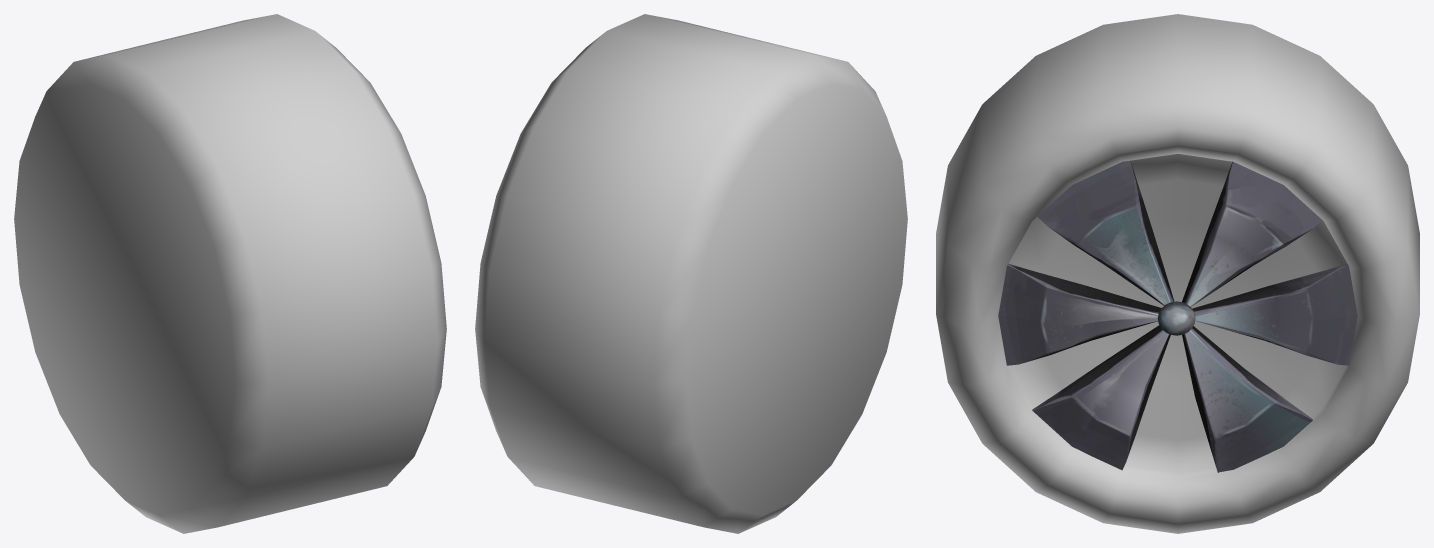
The model's file is Wheel.fbx.
3 renders of one model, left to right at view 1: azimuth 30°, elevation 25°; view 2: azimuth 150°, elevation 25°; view 3: azimuth 270°, elevation 25°, orthographic.
Visible parts, largest first — view 1: Wheel1; view 2: Wheel1; view 3: Wheel1.
Part boxes in pixels (x1,y1,x2,y2): Wheel1: [14, 14, 446, 533]; Wheel1: [475, 14, 907, 533]; Wheel1: [936, 14, 1419, 533].
Size of the model in its own units: 0.4204 by 0.844 by 0.844.
